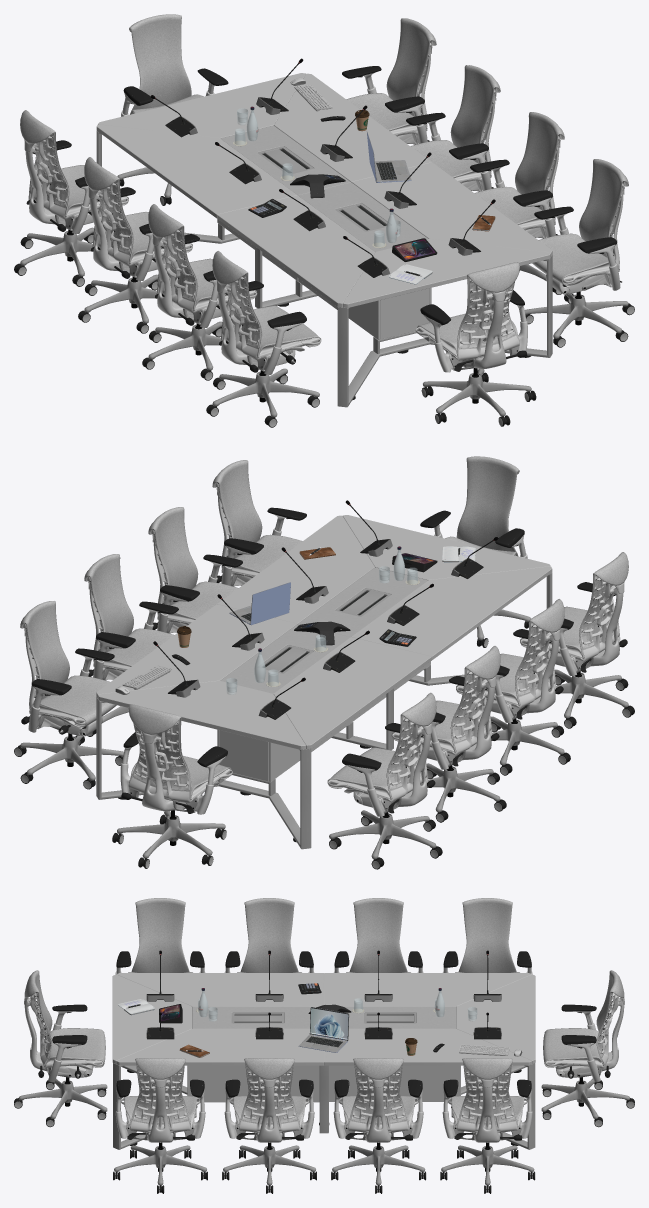
The model's file is Conference_Table.glb.
3 renders of one model, top to bottom at view 1: azimuth 30°, elevation 25°; view 2: azimuth 150°, elevation 25°; view 3: azimuth 270°, elevation 25°, orthographic. The views are drawn at different scales.
Parts seen in each view (by area): view 1: LAS_12_places_table, HME.001, HME.002, HME.005, HME.008, HME.007, HME.006, HME.003, HME.009, HME.004, HME, laptop14_body.005 (+2 smaller); view 2: LAS_12_places_table, HME.009, HME, HME.006, HME.005, HME.008, HME.007, HME.004, HME.001, HME.002, HME.003, laptop14_screen.005 (+1 smaller); view 3: LAS_12_places_table, HME.004, HME, HME.003, HME.002, HME.001, HME.009, HME.006, HME.007, HME.005, HME.008, laptop14_screen.005 (+3 smaller).
Part boxes in pixels (x1,y1,x2,y2): LAS_12_places_table: (96,73,552,407); HME.001: (415,262,536,426); HME.002: (524,159,634,347); HME.005: (206,251,321,427); HME.008: (142,204,257,380); HME.007: (78,157,192,333); HME.006: (14,110,128,286); HME.003: (470,112,564,294); HME.009: (117,14,228,205); HME.004: (406,65,500,191); HME: (342,18,436,144); laptop14_body.005: (375,160,411,182); LAS_12_places_table: (96,515,552,849); HME.009: (112,704,232,868); HME: (14,601,123,789); HME.006: (327,692,442,869); HME.005: (520,552,634,728); HME.008: (456,599,570,775); HME.007: (391,646,506,822); HME.004: (84,554,178,736); HME.001: (420,456,531,647); HME.002: (212,460,306,586); HME.003: (148,507,242,633); laptop14_screen.005: (250,582,290,625); LAS_12_places_table: (112,973,535,1149); HME.004: (331,1058,426,1193); HME: (440,1058,535,1193); HME.003: (222,1058,316,1193); HME.002: (113,1058,207,1193); HME.001: (14,970,107,1127); HME.009: (541,970,634,1127); HME.006: (443,898,532,974); HME.007: (334,898,423,972); HME.005: (115,898,205,974); HME.008: (224,898,314,972); laptop14_screen.005: (309,1007,349,1040).
Size of the model in its own units: 3.16 by 1.08 by 4.7.
Materials: 20 (18 with a texture image).
